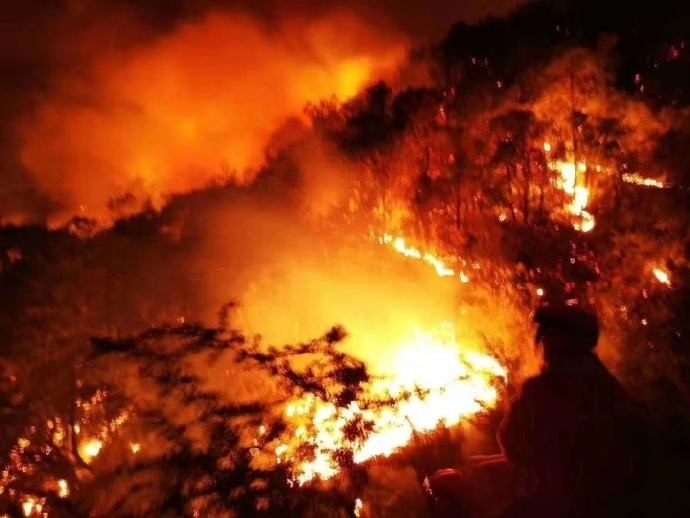fire: (274, 327, 506, 481), (0, 383, 141, 517), (535, 134, 608, 232), (379, 225, 475, 284)
